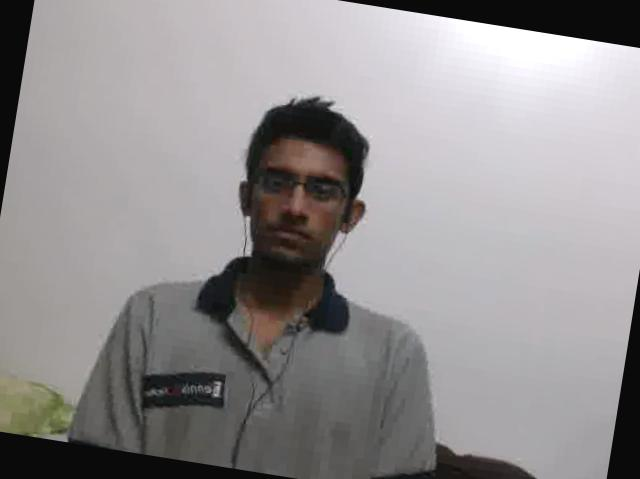bosan: (245, 136, 356, 268)
